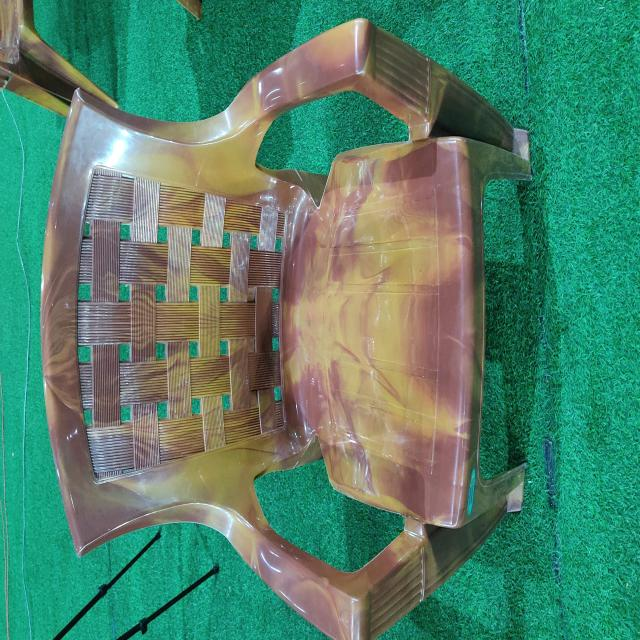Chair: (40, 17, 532, 639)
